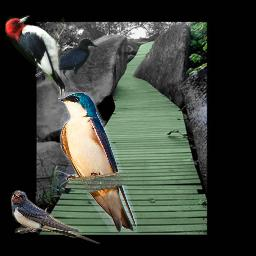Crow: (35, 38, 98, 83)
Swallow: (58, 92, 137, 233), (11, 190, 100, 244)
Woodpecker: (5, 15, 65, 96)
